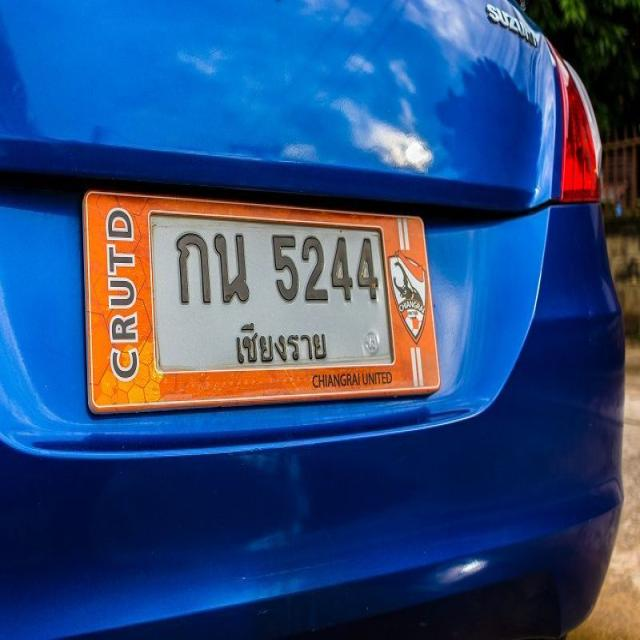plate: (145, 217, 392, 367)
